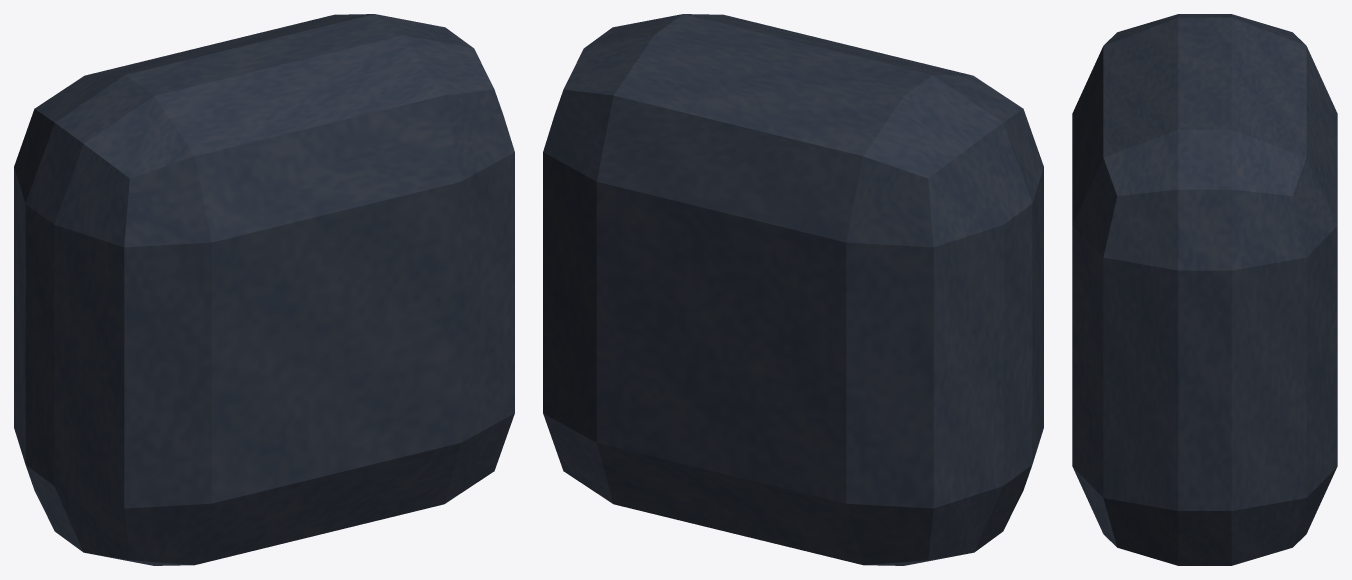
The model's file is VoiceActivityRing.obj.
3 views of the same model, side by side, from view 1: azimuth 30°, elevation 25°; view 2: azimuth 150°, elevation 25°; view 3: azimuth 270°, elevation 25° (orthographic). The views are drawn at different scales.
Visible parts, largest first — view 1: Marker; view 2: Marker; view 3: Marker.
Boxes of the visible parts, <box> form: Marker: <box>14,14,514,565</box>; Marker: <box>543,14,1043,565</box>; Marker: <box>1072,14,1337,565</box>.
Size of what is drawn, in the model's own units: 0.018 by 0.018 by 0.01.
